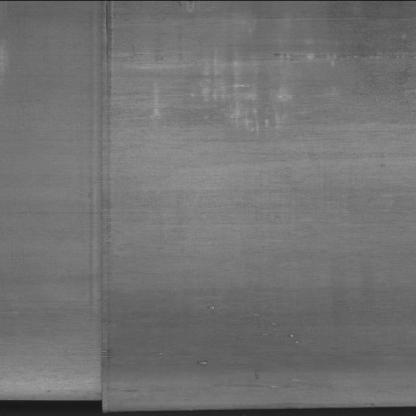welding_line: (88, 3, 130, 414)
